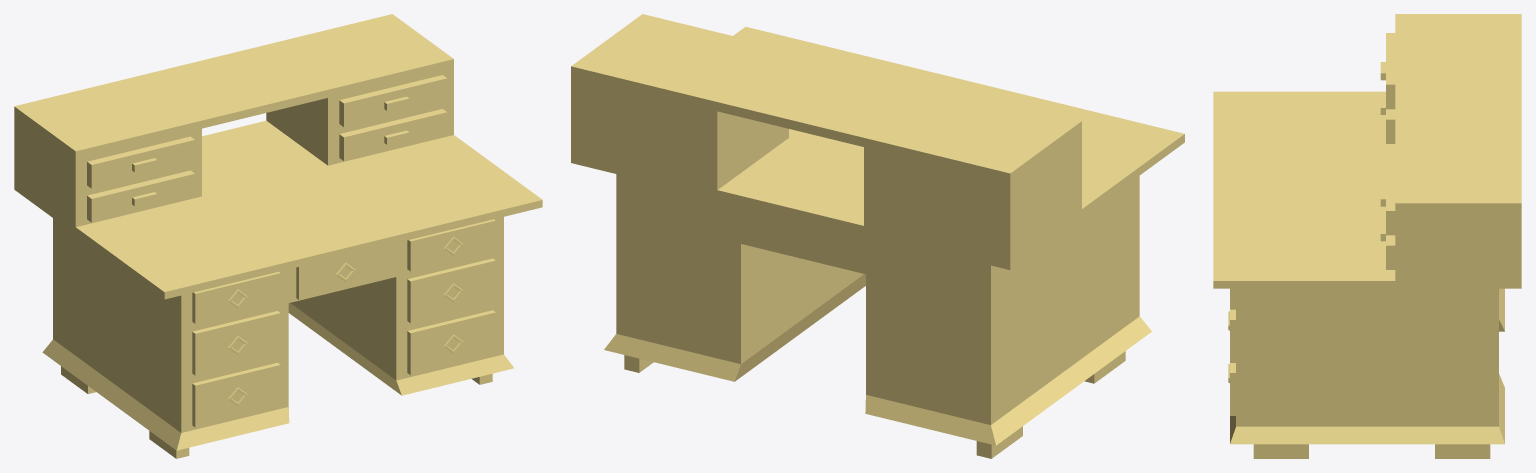
Rendered from Desk.fbx.
3 renders of one model, left to right at view 1: azimuth 30°, elevation 25°; view 2: azimuth 150°, elevation 25°; view 3: azimuth 270°, elevation 25°, orthographic. The views are drawn at different scales.
Visible parts, largest first — view 1: Desk; view 2: Desk; view 3: Desk.
Part boxes in pixels (x1=…): Desk: x1=14, y1=14, x2=542, y2=458; Desk: x1=571, y1=14, x2=1184, y2=458; Desk: x1=1213, y1=14, x2=1521, y2=458.
Bounding box in the file's own units: 204 × 136 × 140.
